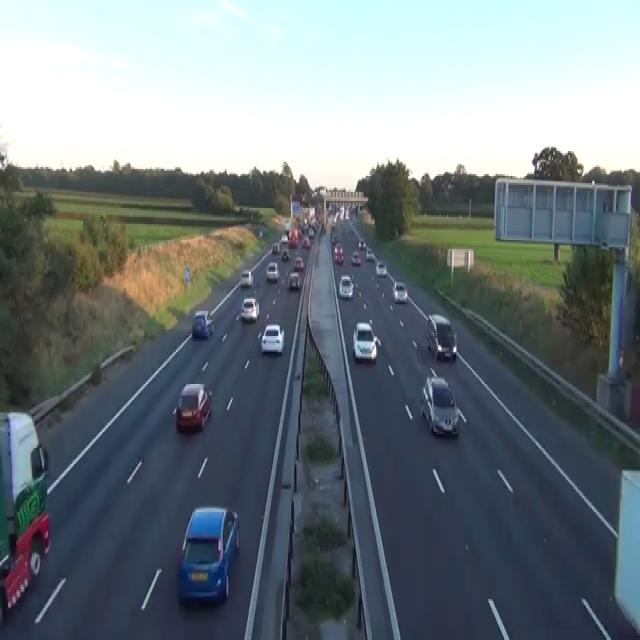Car: (177, 505, 240, 606), (420, 375, 459, 437), (173, 382, 212, 432), (426, 313, 457, 361), (352, 322, 377, 362), (260, 324, 284, 354), (191, 310, 214, 340), (240, 297, 259, 322), (339, 274, 353, 298), (392, 281, 407, 302), (266, 261, 279, 281), (240, 268, 253, 286), (334, 243, 344, 265), (288, 270, 300, 288), (375, 260, 387, 276), (287, 229, 297, 247), (351, 251, 361, 265), (294, 256, 304, 270), (281, 247, 289, 261), (365, 247, 373, 260), (302, 236, 310, 249), (328, 203, 338, 213), (288, 237, 297, 247), (358, 238, 366, 249), (283, 219, 290, 231), (271, 242, 279, 252), (280, 233, 288, 242), (331, 233, 338, 243), (308, 228, 314, 236), (331, 217, 335, 227), (259, 228, 262, 236), (345, 212, 349, 218)
Truck: (0, 409, 51, 622)
